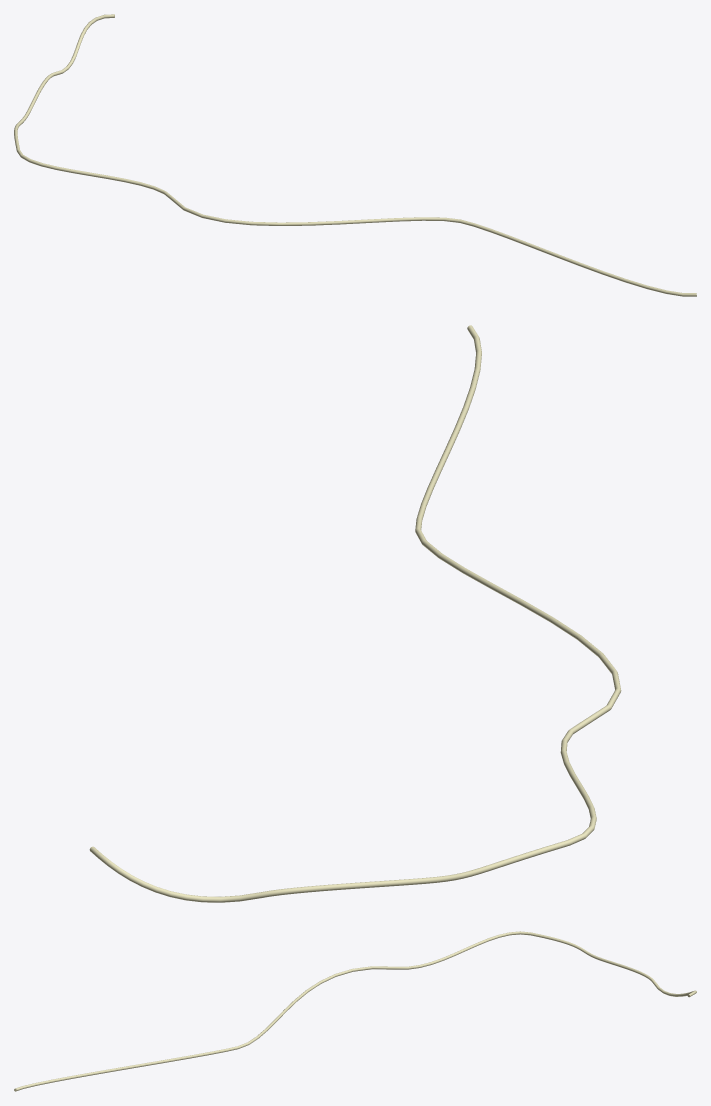
File: Mouse-kabel1.fbx
3 renders of one model, top to bottom at view 1: azimuth 30°, elevation 25°; view 2: azimuth 150°, elevation 25°; view 3: azimuth 270°, elevation 25°, orthographic. The views are drawn at different scales.
Parts seen in each view (by area): view 1: Mouse-kabel1; view 2: Mouse-kabel1; view 3: Mouse-kabel1.
Part boxes in pixels (left/top/right/bottom): Mouse-kabel1: left=14, top=14, right=696, bottom=296; Mouse-kabel1: left=89, top=325, right=621, bottom=902; Mouse-kabel1: left=14, top=931, right=696, bottom=1091.
Size of the model in its own units: 94.97 by 7.74 by 180.
